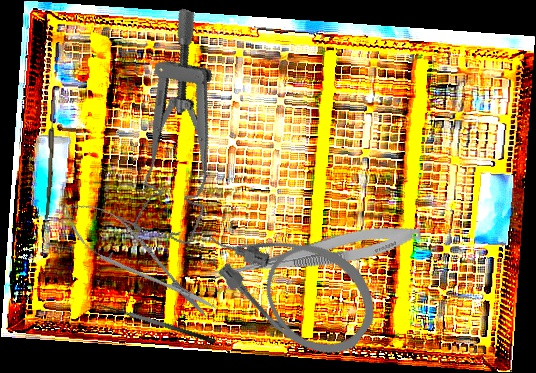Cannula: (191, 187, 393, 373)
Micro Scissor: (49, 186, 228, 333), (201, 216, 425, 296)
Spatula Surgical: (92, 298, 217, 354)
Speculum: (97, 6, 270, 250)
Surgical Spoon: (45, 96, 56, 220)
